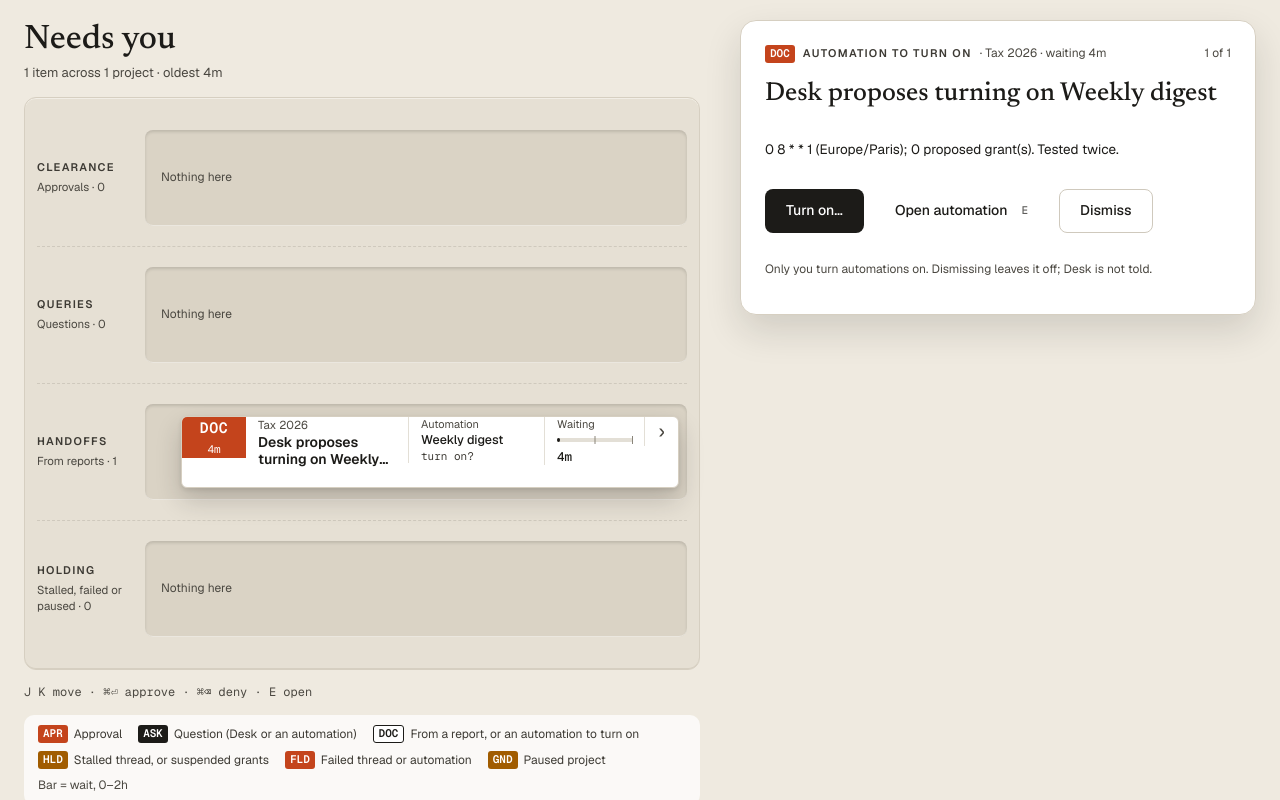
Test: Attention: automations › opens the Turn-on dialog from Desk’s request
Expected: the text "0 8 * * 1 (Europe/Paris); 0 proposed grant(s). Tested twice." is shown, [765, 140, 1119, 158]
Click the button "Turn on…".
click(814, 211)  # box [765, 189, 864, 233]
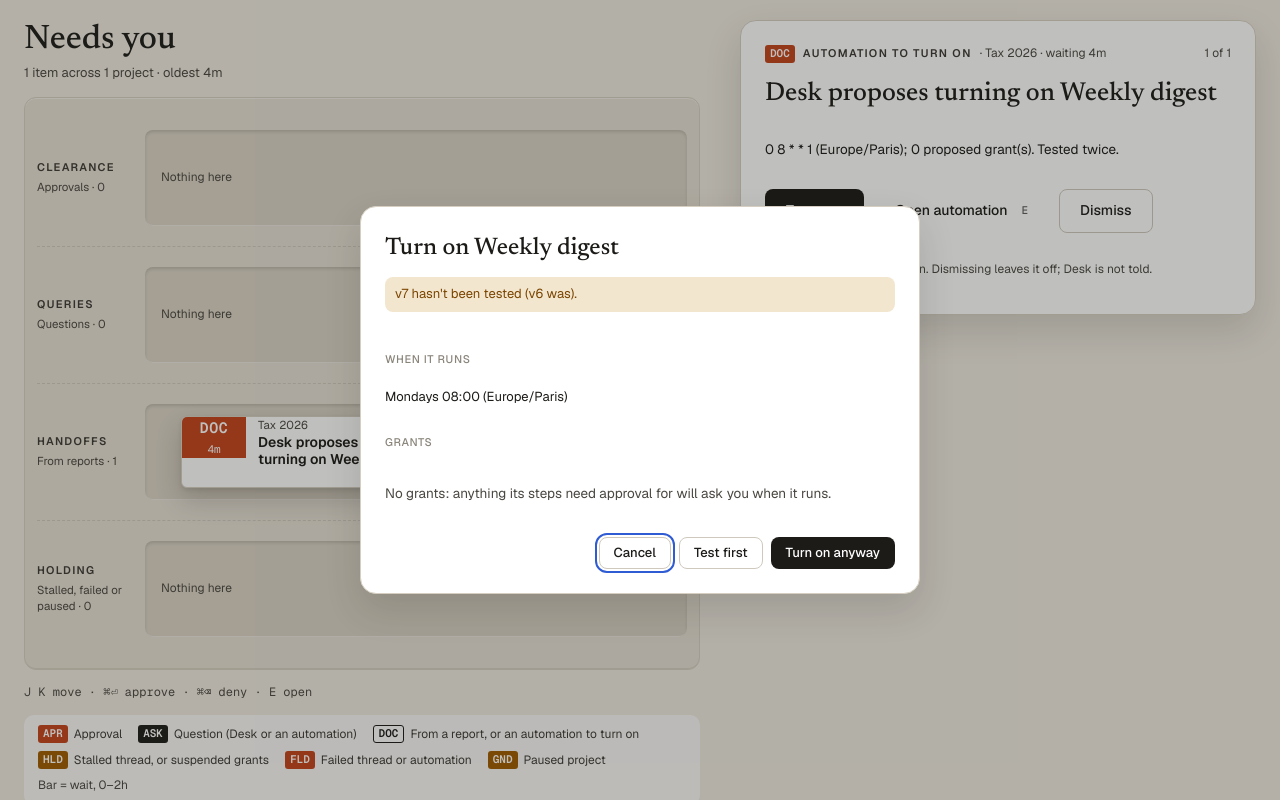
Now the dialog "Turn on Weekly digest" is shown, box [360, 206, 920, 594]
